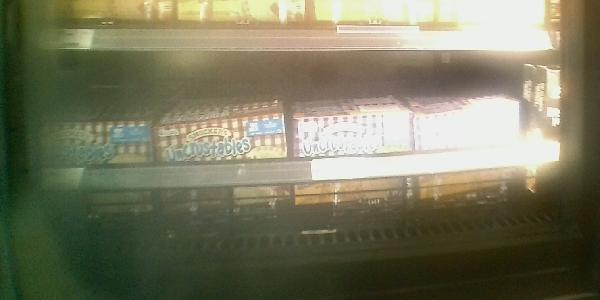icecream: (163, 94, 290, 161), (31, 98, 157, 161), (296, 93, 404, 156), (410, 90, 521, 149)
